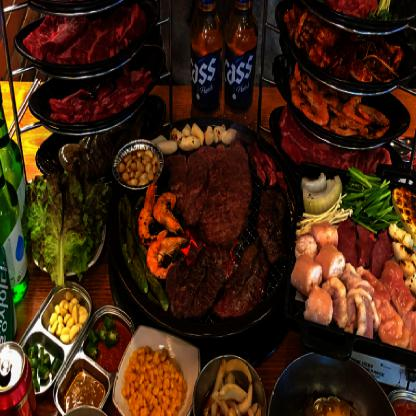Carne: (179, 136, 252, 244), (168, 235, 233, 310), (220, 248, 266, 318), (260, 183, 292, 266)
